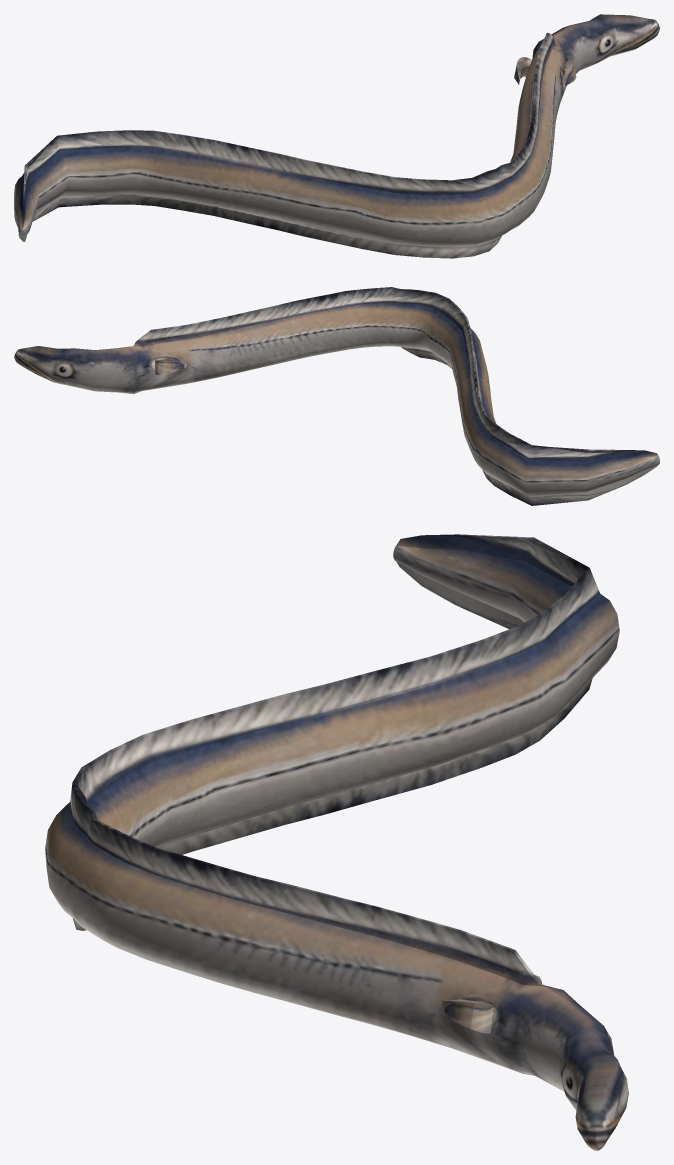
The model's file is eel bend shape.fbx.
3 views of the same model, one above another, from view 1: azimuth 30°, elevation 25°; view 2: azimuth 150°, elevation 25°; view 3: azimuth 270°, elevation 25° (orthographic). The views are drawn at different scales.
Visible parts, largest first — view 1: pCylinder3; view 2: pCylinder3; view 3: pCylinder3.
Part boxes in pixels (x1,y1,x2,y2): pCylinder3: [14, 14, 659, 258]; pCylinder3: [14, 287, 659, 505]; pCylinder3: [45, 534, 628, 1150].
Bounding box in the file's own units: 10.9 × 1.18 × 4.62.
1 material, 1 textured.
